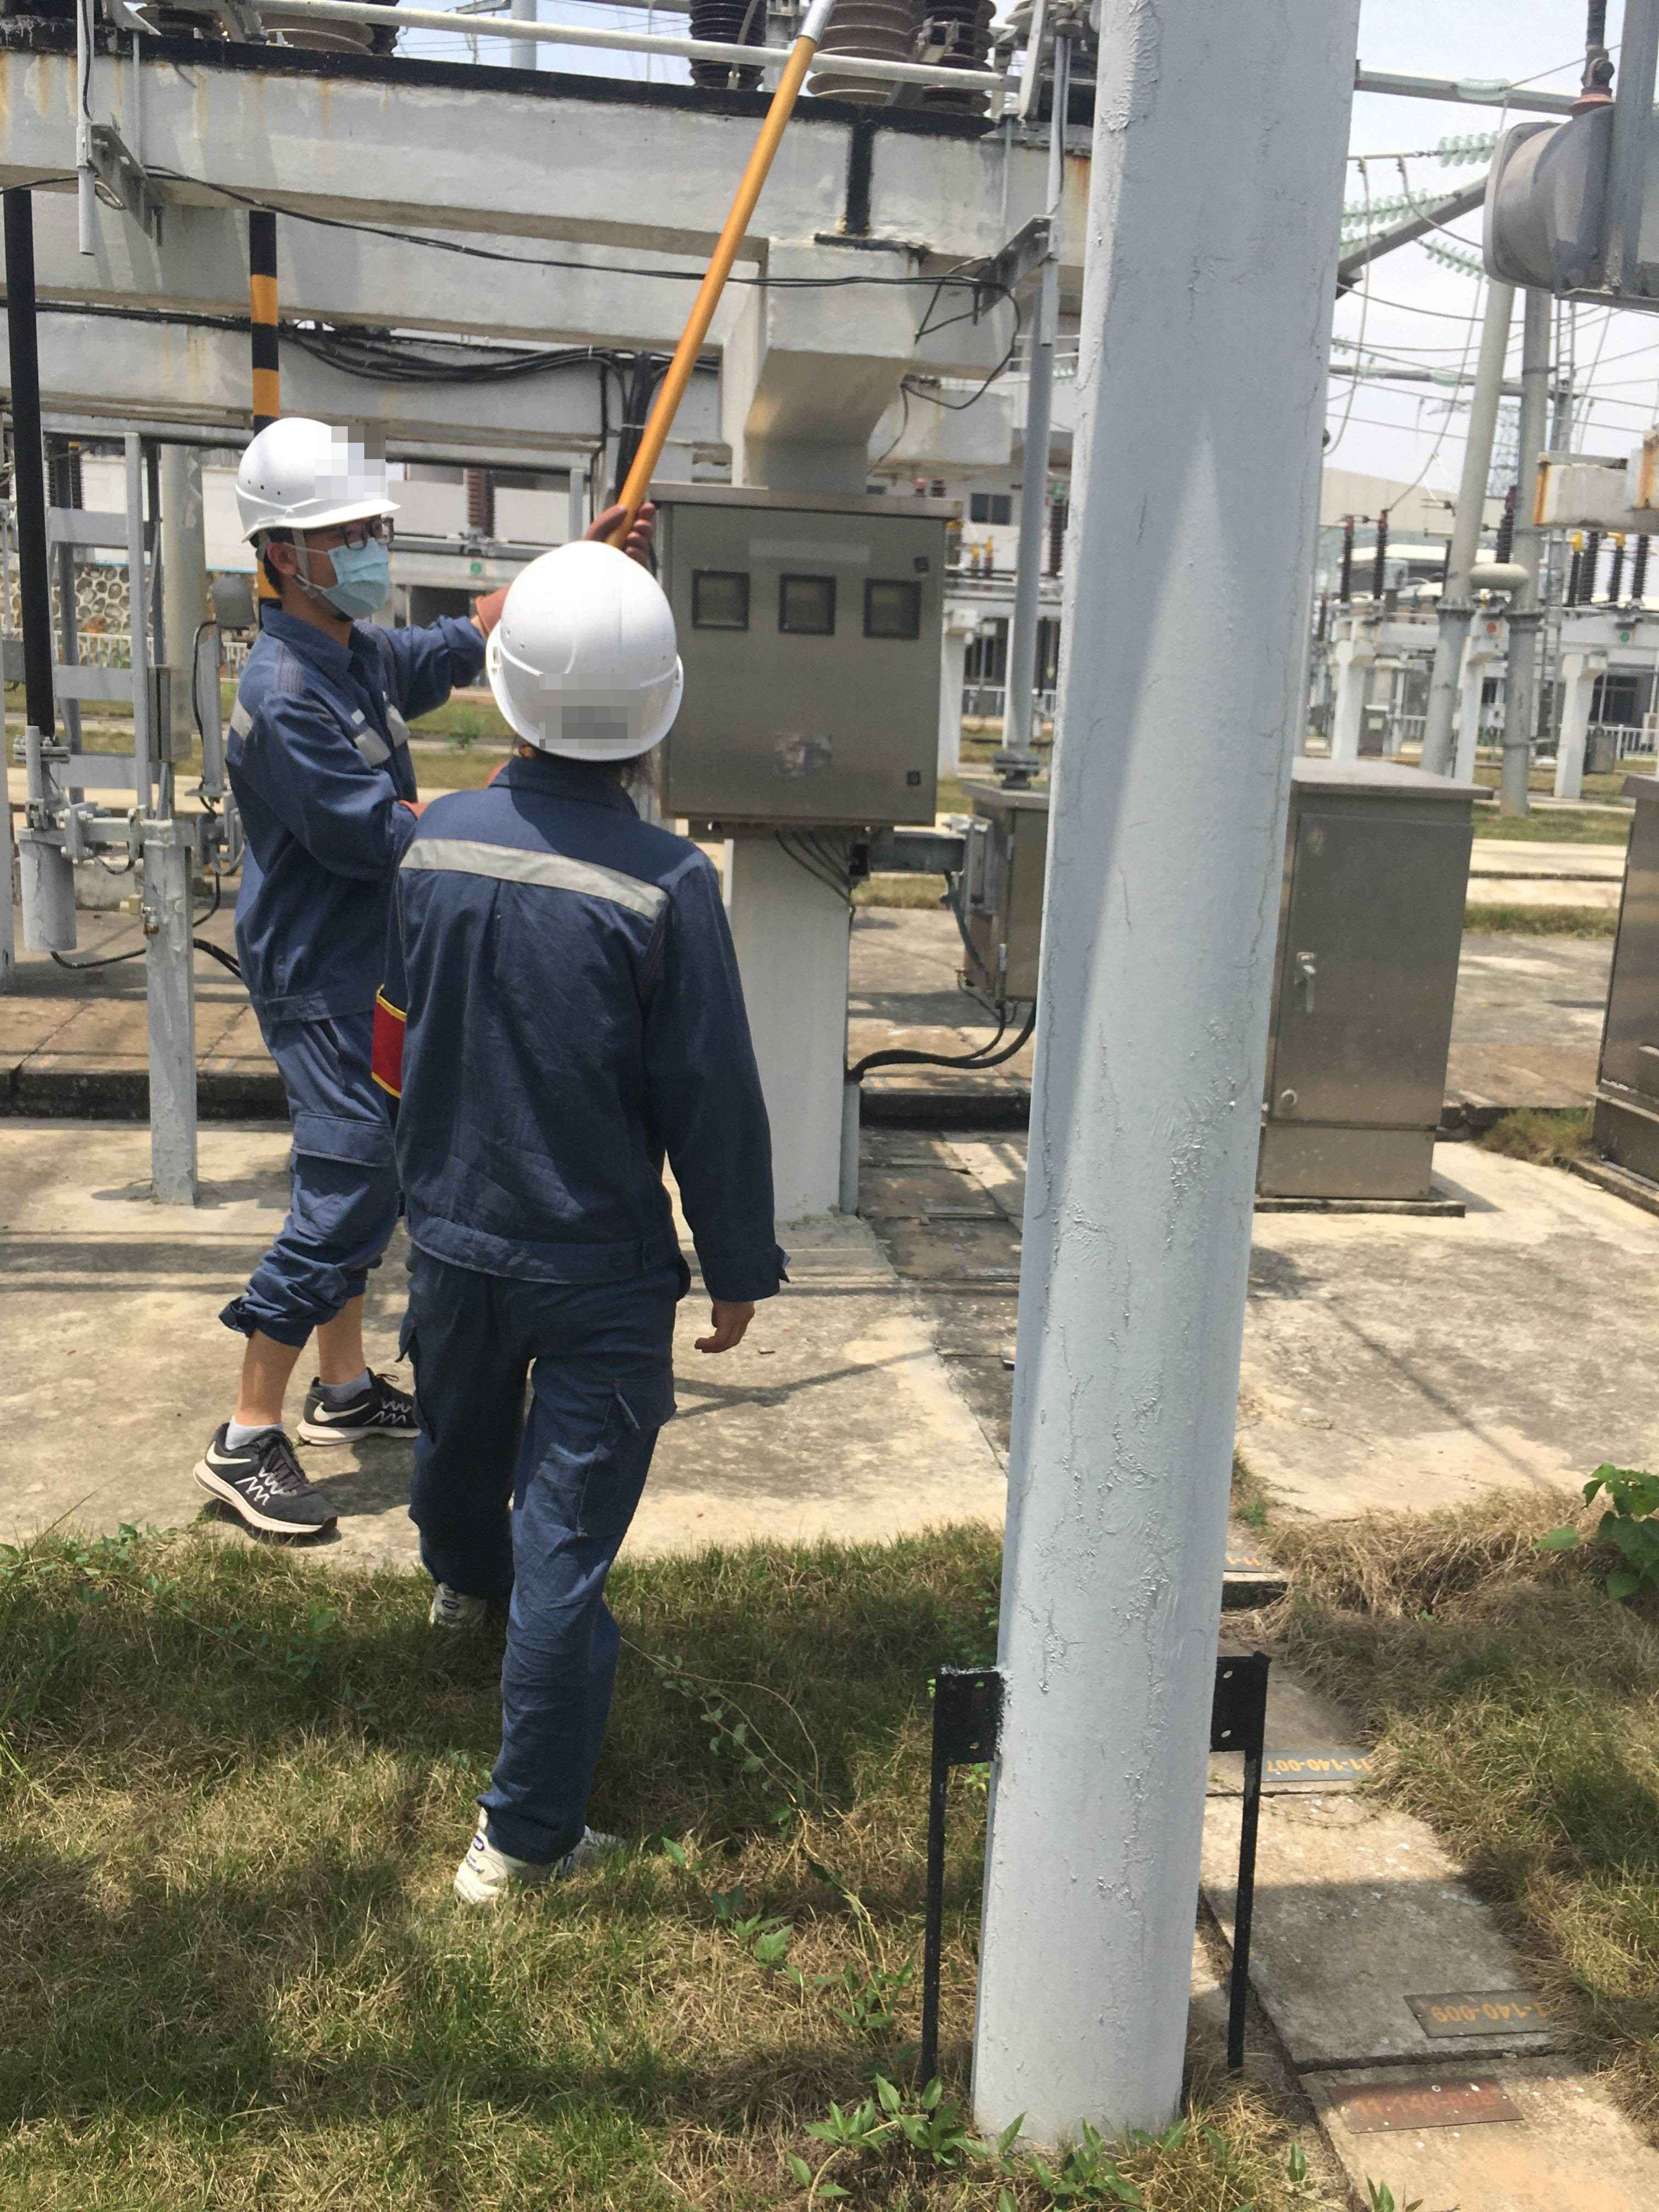downsuit: (416, 1313, 683, 1848), (221, 1019, 401, 1346)
upsuit: (382, 780, 784, 1301), (227, 603, 472, 1019)
wrongbottom: (214, 1280, 368, 1437)
